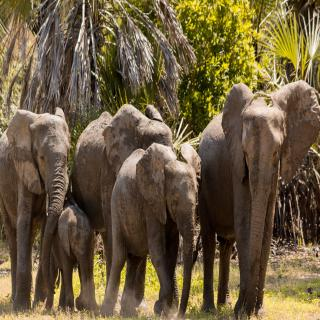Elephant: (194, 81, 320, 320), (102, 142, 203, 320), (0, 102, 70, 314), (44, 202, 100, 312)
